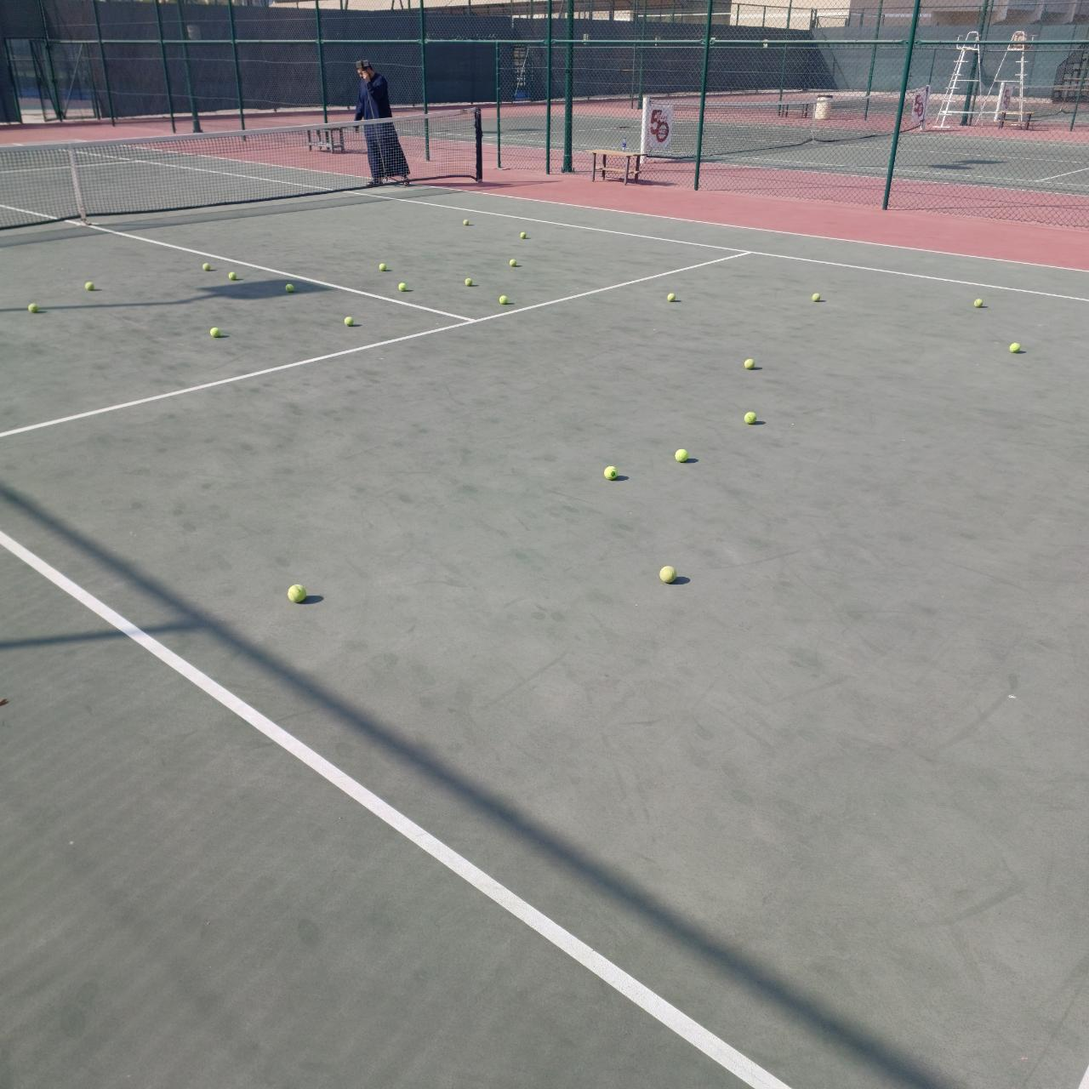tennis-ball: (286, 581, 306, 602), (657, 563, 676, 583), (673, 446, 688, 462), (602, 464, 617, 479), (742, 409, 756, 424), (1007, 340, 1022, 353), (210, 327, 221, 338), (344, 315, 354, 327), (744, 359, 755, 369), (28, 303, 39, 313), (85, 281, 95, 291), (974, 299, 983, 309), (667, 292, 676, 302), (498, 295, 507, 304), (228, 272, 237, 281), (202, 262, 211, 271), (285, 284, 295, 292), (398, 282, 406, 292), (812, 294, 821, 302), (378, 263, 386, 272), (465, 278, 473, 286), (509, 259, 517, 267), (520, 232, 527, 239), (463, 219, 470, 226)
